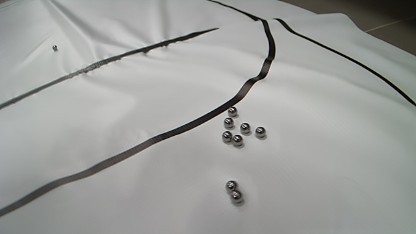ironball: (230, 190, 243, 203), (225, 180, 237, 192), (255, 126, 266, 138), (223, 117, 234, 129), (221, 131, 233, 142), (232, 134, 243, 146), (240, 122, 250, 134), (227, 106, 237, 117), (52, 45, 58, 51)
